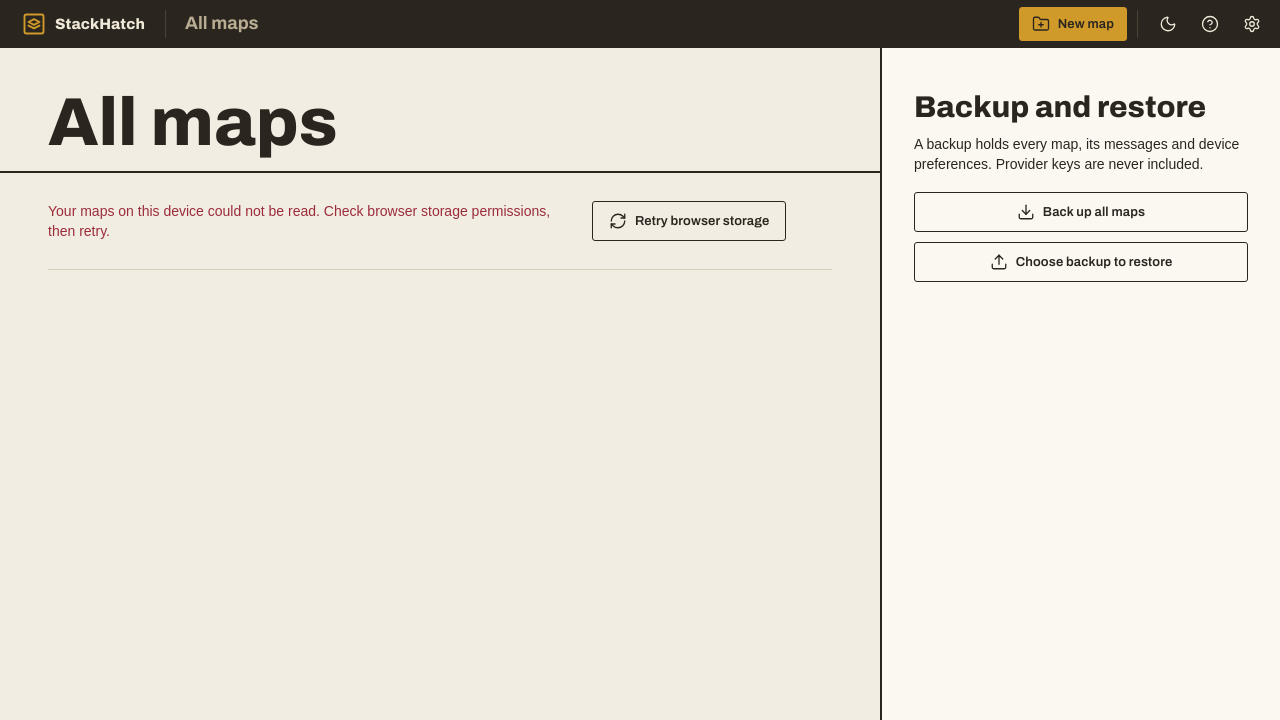
Test case: AllMapsPage › shows a recoverable storage failure and retries
This screenshot has width=1280, height=720.
Expected: the message shows "browser storage permissions", [48, 203, 550, 239]
What coordinates should you click on to do the following:
click the button "Retry browser storage"
I would click on:
 (689, 221)
Its box is [592, 201, 786, 241].
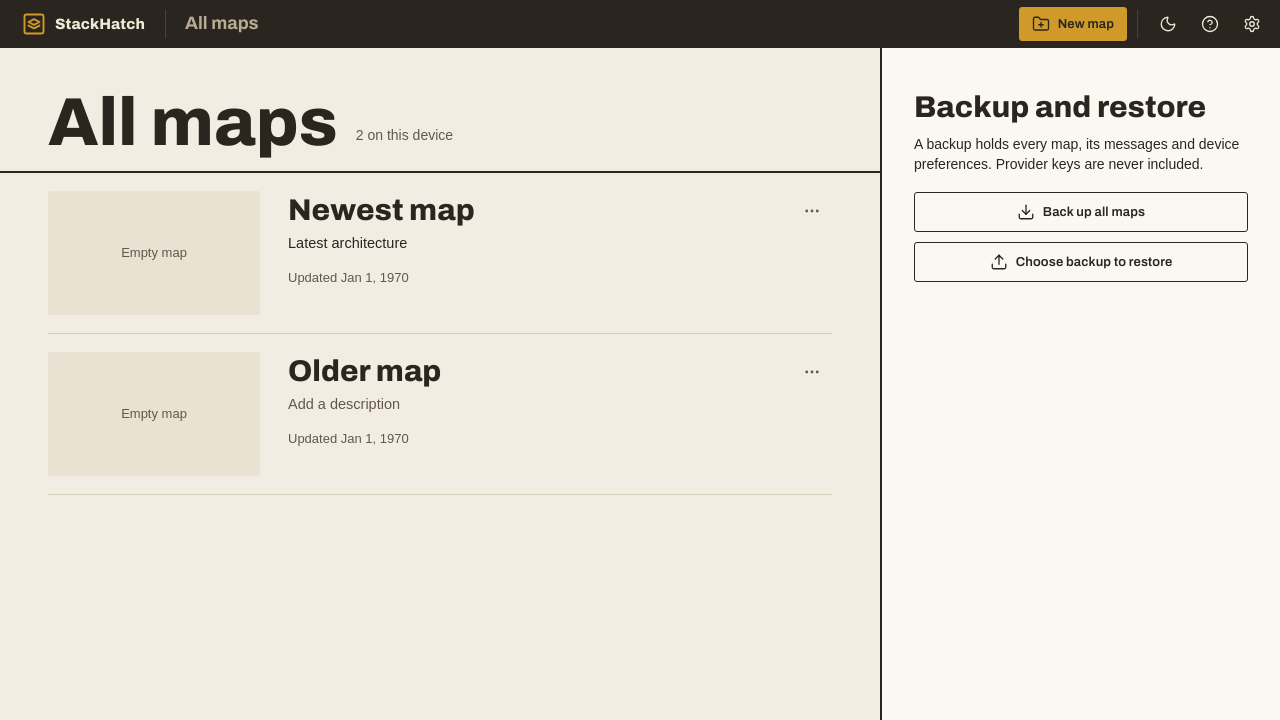
Expected: the button "Newest map" is shown, [288, 195, 475, 225]
